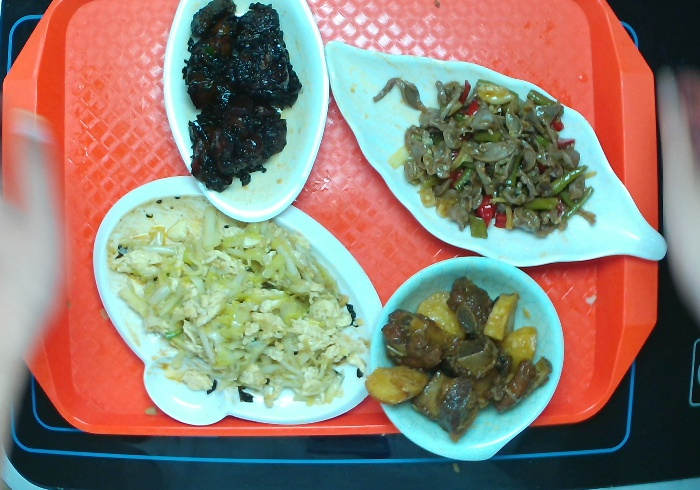RJxy-Bai_Se_Tuo_Yuan: (161, 1, 330, 226)
RJxy-Shu_Ye_Pan: (324, 34, 671, 271)
RJxy-Xiao_Jiao_Yuan_Wan: (368, 256, 569, 467)
RJxy-Zhan_Liao_Pan: (91, 173, 387, 430)
